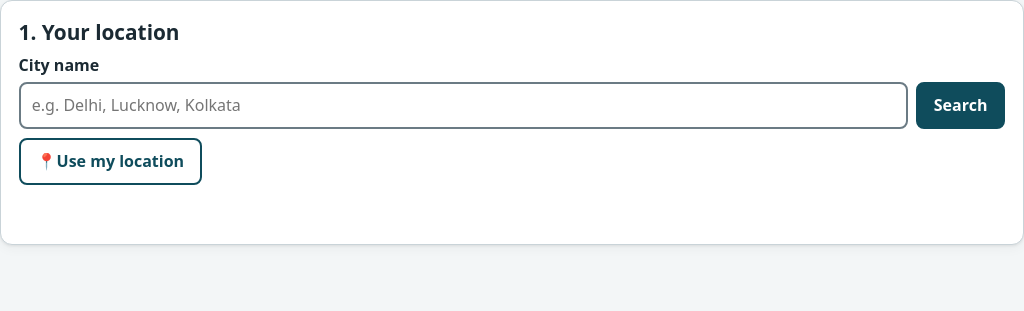
Test case: LocationSearch › selects a result
The width and height of the screenshot is (1024, 311).
Type "Del" into the field labelled "City name" at (463, 105), box 19,82 -> 908,129
Then press Enter
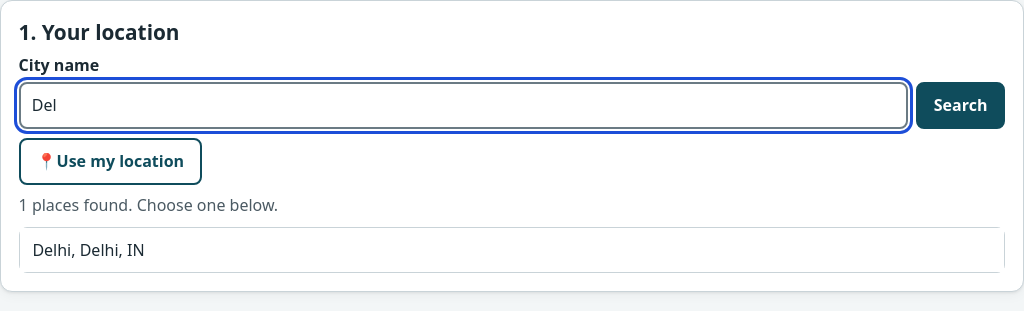
Click the button "Delhi, Delhi, IN" at (88, 250), box 20,228 -> 1004,272
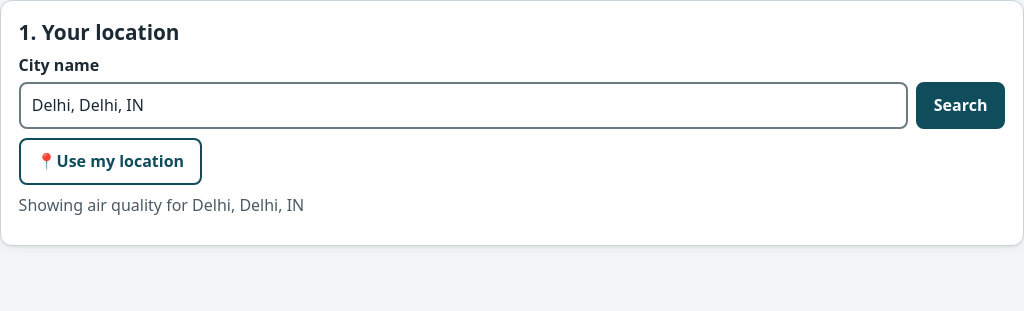
Expected: the list is gone
Expected: the message reads "Showing air quality for Delhi, Delhi, IN", 19,194 -> 304,216
